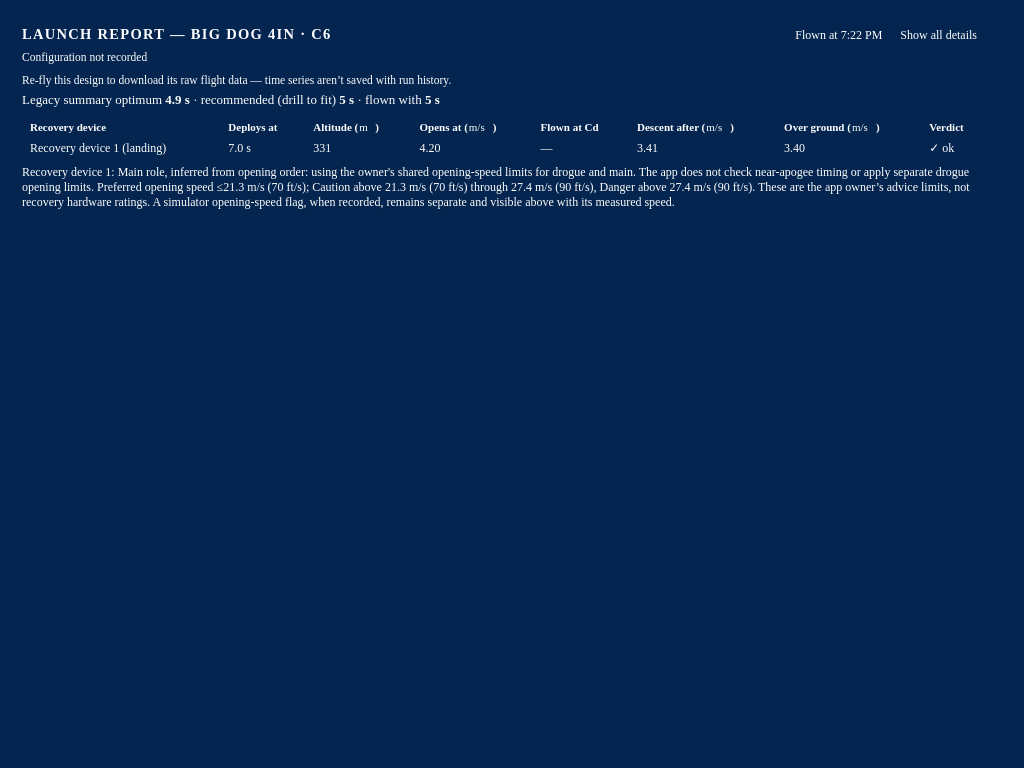
Test: keeps an unreadable stored motor count unavailable after loading
This screenshot has width=1024, height=768.
Click the button "Show all details": (939, 36) x1=890 y1=24 x2=987 y2=47
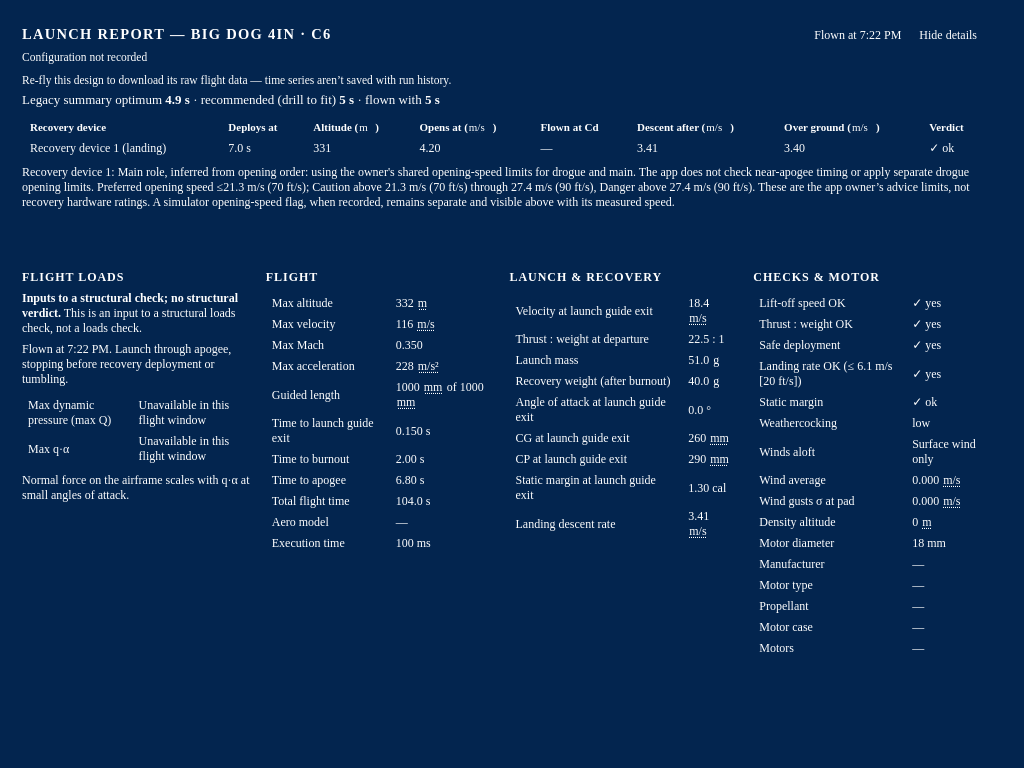
Check: the cell "—" next to "Motors" is shown, box x1=912 y1=641 x2=924 y2=655
